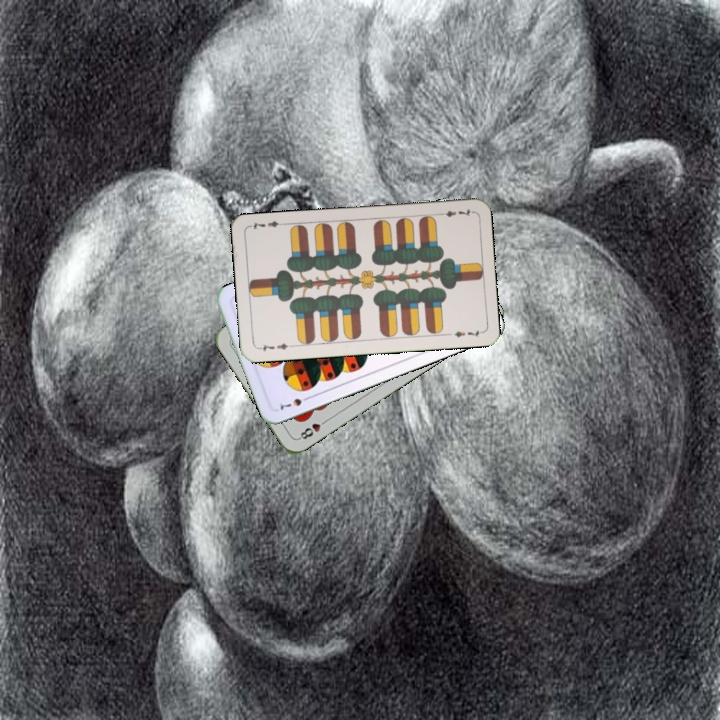E7: (255, 339, 295, 354), (434, 205, 475, 219)
H8: (294, 415, 331, 442)
S7: (275, 392, 313, 412)
